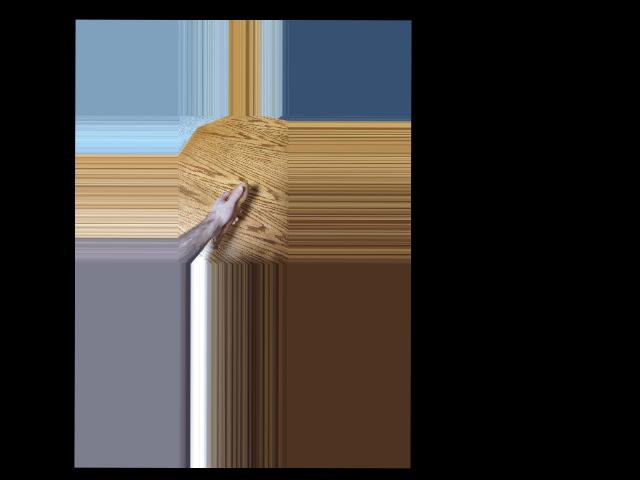sweet_potato: (209, 184, 247, 251)
